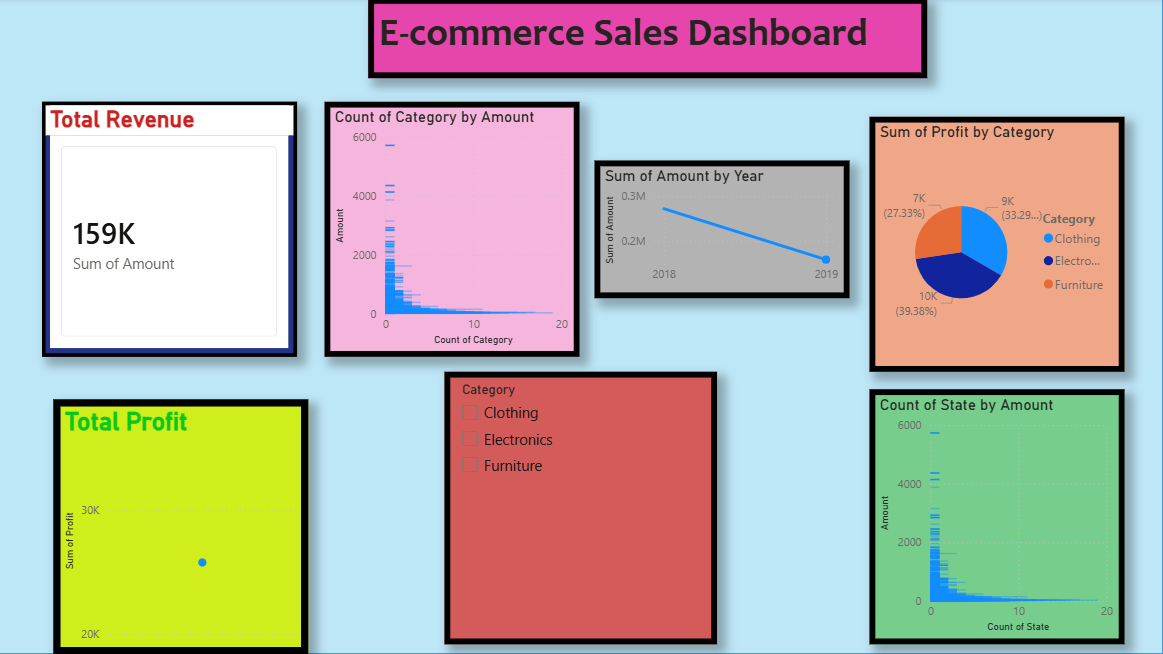

What the dashboard file says about the page in this screenshot:
{"tool":"powerbi","page":{"name":"Page 1","canvas":[1280,720],"ordinal":0},"visuals":[{"type":"shape","box":[0,0,1280.3,720.4],"z":0},{"type":"shape","box":[0,0,1280.3,720.4],"z":500},{"type":"cardVisual","title":"  Total Revenue","fields":{"Data":["Sum(Order Details.Amount)"]},"box":[49.4,113.9,279.9,279.9],"z":1000},{"type":"lineChart","title":"Total Profit","fields":{"Y":["Sum(Order Details.Profit)"]},"box":[61.7,440.5,279.9,279.9],"z":2000},{"type":"lineChart","fields":{"Category":["List of Orders.Order Date.Variation.Date Hierarchy.Year","List of Orders.Order Date.Variation.Date Hierarchy.Quarter","List of Orders.Order Date.Variation.Date Hierarchy.Month","List of Orders.Order Date.Variation.Date Hierarchy.Day"],"Y":["Sum(Order Details.Amount)"]},"box":[655.9,178.4,279.9,150.9],"z":3000},{"type":"clusteredBarChart","fields":{"Category":["Order Details.Amount"],"Y":["CountNonNull(Order Details.Category)"]},"box":[359.5,113.9,279.9,279.9],"z":4000},{"type":"barChart","fields":{"Category":["Order Details.Amount"],"Y":["CountNonNull(List of Orders.State)"]},"box":[957.8,429.5,279.9,279.9],"z":5000},{"type":"pieChart","fields":{"Category":["Order Details.Category"],"Y":["Sum(Order Details.Profit)"]},"box":[957.8,130.4,279.9,279.9],"z":6000},{"type":"textbox","box":[407.5,0,613.4,87.8],"z":7000},{"type":"slicer","fields":{"Values":["Order Details.Category"]},"box":[491.3,410.3,299.1,299.1],"z":9000}]}

Visuals, with their boxes in screenshot pixels (x1, y1, x2, y2), scaled from the page's 1280x720 canvas onto the 1163x654 screenshot:
shape: <box>0,0,1162,653</box>
shape: <box>0,0,1162,653</box>
"  Total Revenue" cardVisual: <box>45,103,299,358</box>
"Total Profit" lineChart: <box>56,400,310,653</box>
lineChart - List of Orders.Order Date.Variation.Date Hierarchy.Year x List of Orders.Order Date.Variation.Date Hierarchy.Quarter: <box>596,162,850,299</box>
clusteredBarChart - Order Details.Amount x CountNonNull(Order Details.Category): <box>327,103,581,358</box>
barChart - Order Details.Amount x CountNonNull(List of Orders.State): <box>870,390,1125,644</box>
pieChart - Order Details.Category x Sum(Order Details.Profit): <box>870,118,1125,373</box>
textbox: <box>370,0,928,80</box>
slicer - Order Details.Category: <box>446,373,718,644</box>
